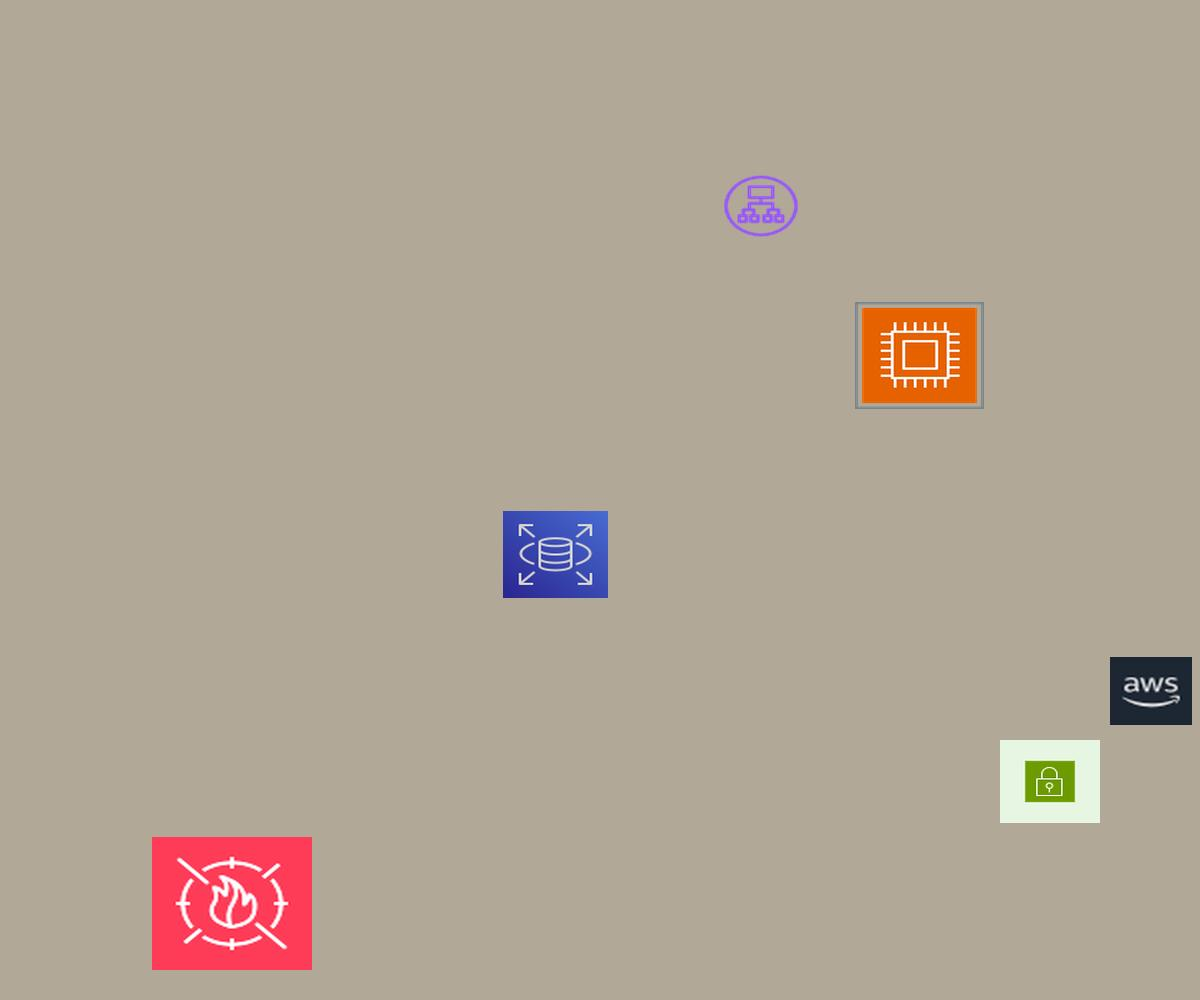AWS-Category_Compute: (855, 302, 984, 409)
AWS-Cloud-logo: (1110, 657, 1192, 725)
AWS-Public-subnet: (1000, 740, 1100, 823)
AWS-RDS: (503, 511, 608, 598)
AWS-Res_Elastic-Load-Balancing_Application-Load-Balancer: (721, 173, 801, 239)
AWS-WAF: (152, 837, 312, 970)
